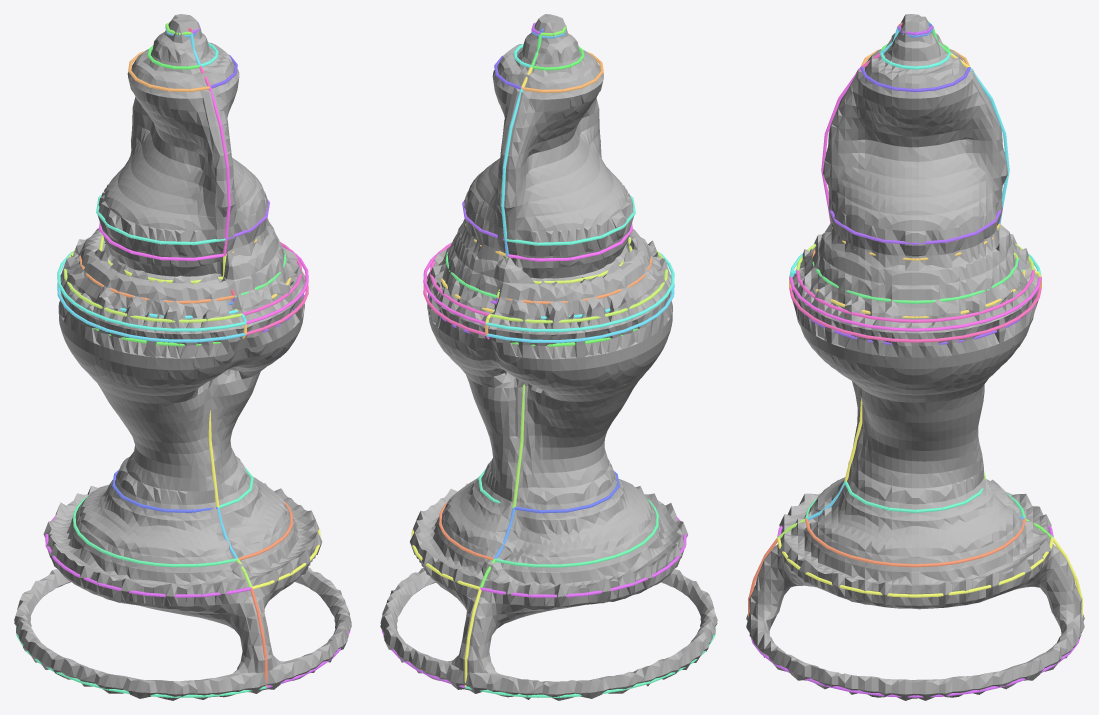
Rendered from onshape_bishop.gltf.
3 renders of one model, left to right at view 1: azimuth 30°, elevation 25°; view 2: azimuth 150°, elevation 25°; view 3: azimuth 270°, elevation 25°, orthographic.
Size of the model in its own units: 0.4158 by 0.8309 by 0.4155.
